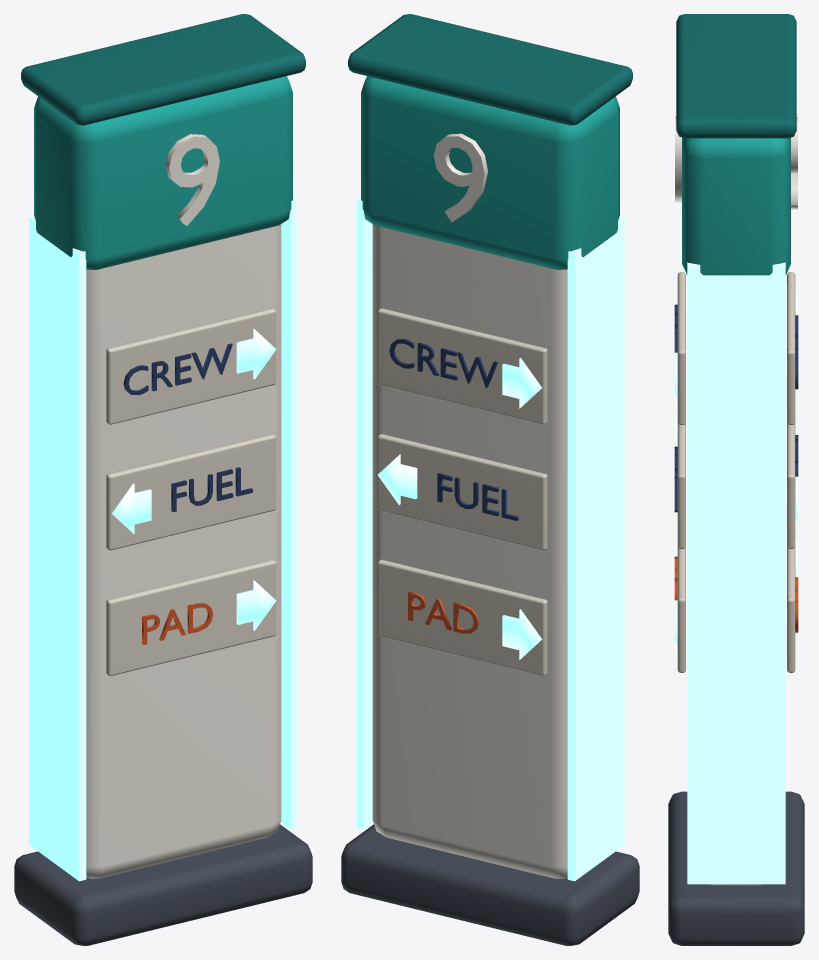
File: dune_totem.glb
3 views of the same model, side by side, from view 1: azimuth 30°, elevation 25°; view 2: azimuth 150°, elevation 25°; view 3: azimuth 270°, elevation 25° (orthographic).
Visible parts, largest first — view 1: Totem; view 2: Totem; view 3: Totem.
Boxes of the visible parts, x1,y1,x2,y2 form: Totem: [14, 14, 312, 945]; Totem: [341, 14, 639, 945]; Totem: [668, 14, 804, 945].
Size of the model in its own units: 1 by 3.34 by 0.5.
